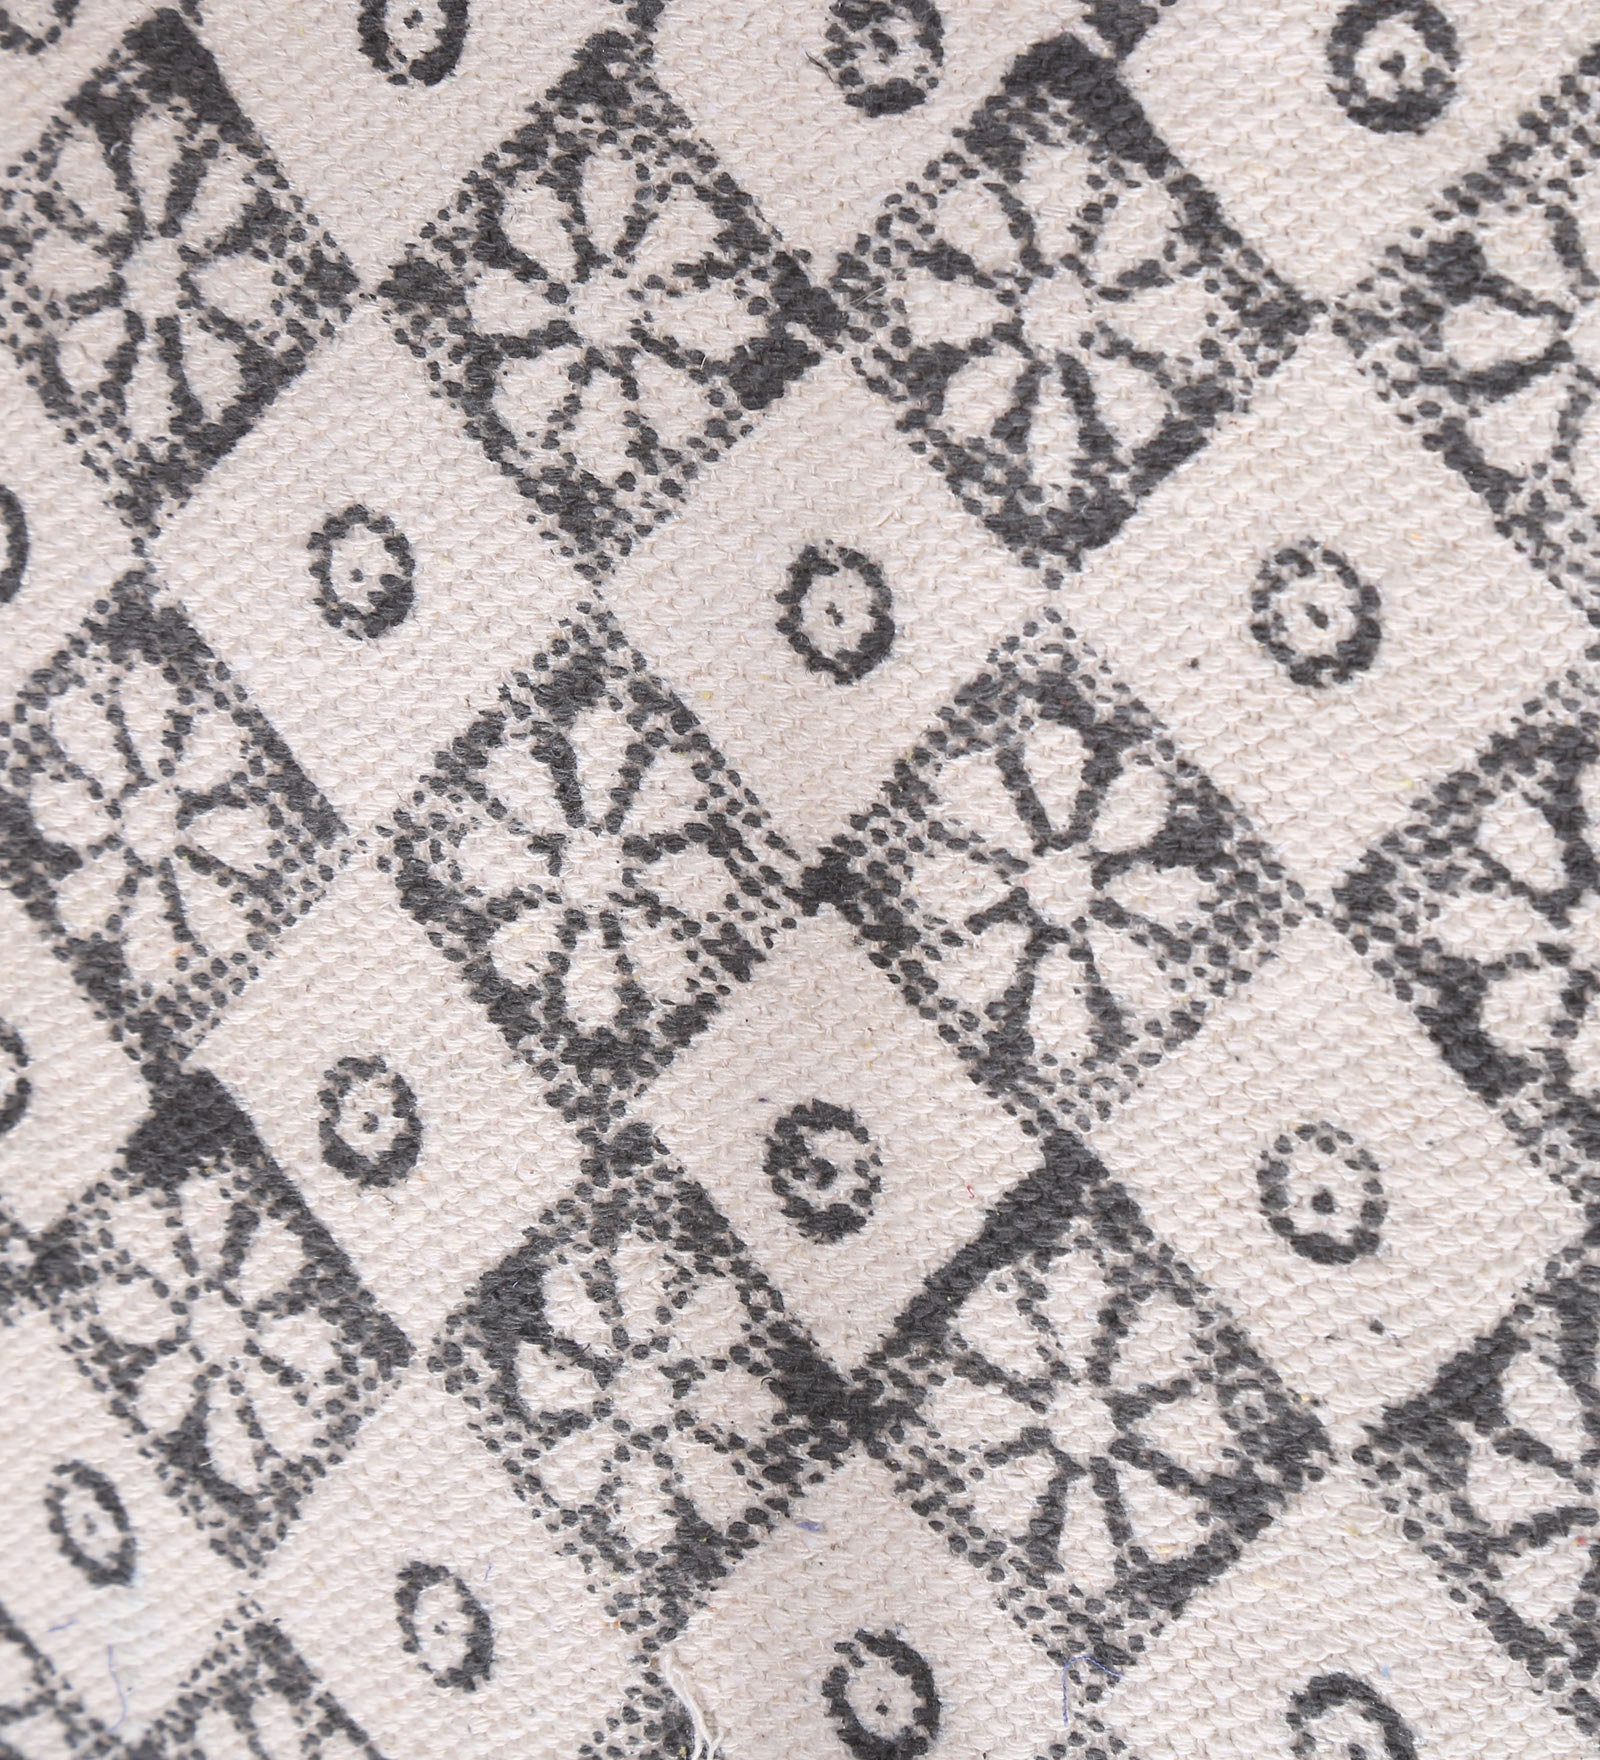Elton Arm Chair in Grey Colour by Bohemiana: (9, 2, 1598, 1760)
